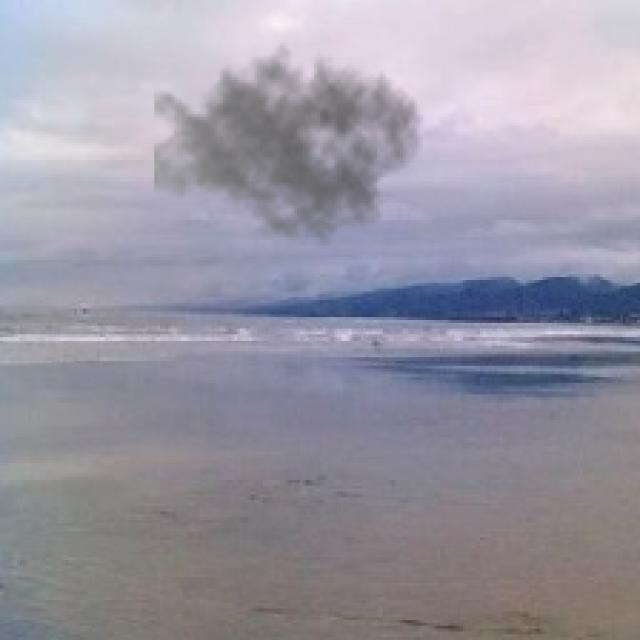smoke: (154, 32, 423, 248)
